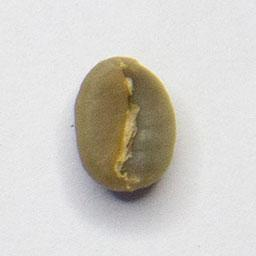premium: (70, 52, 181, 198)
